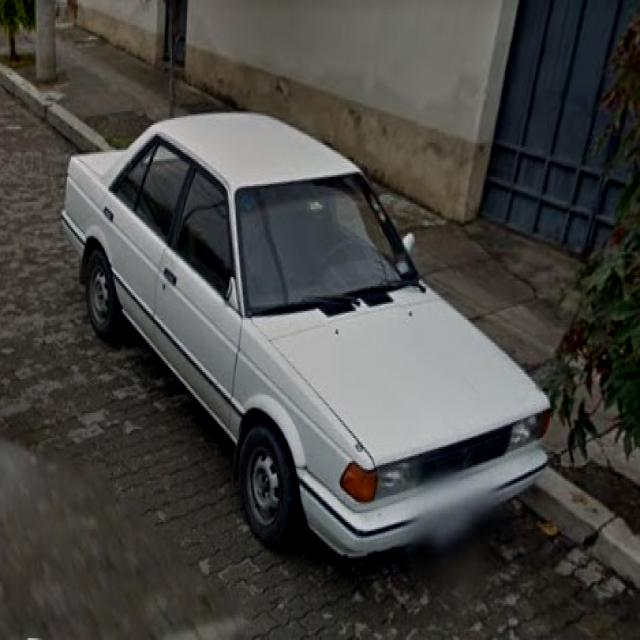car: (55, 90, 562, 539)
